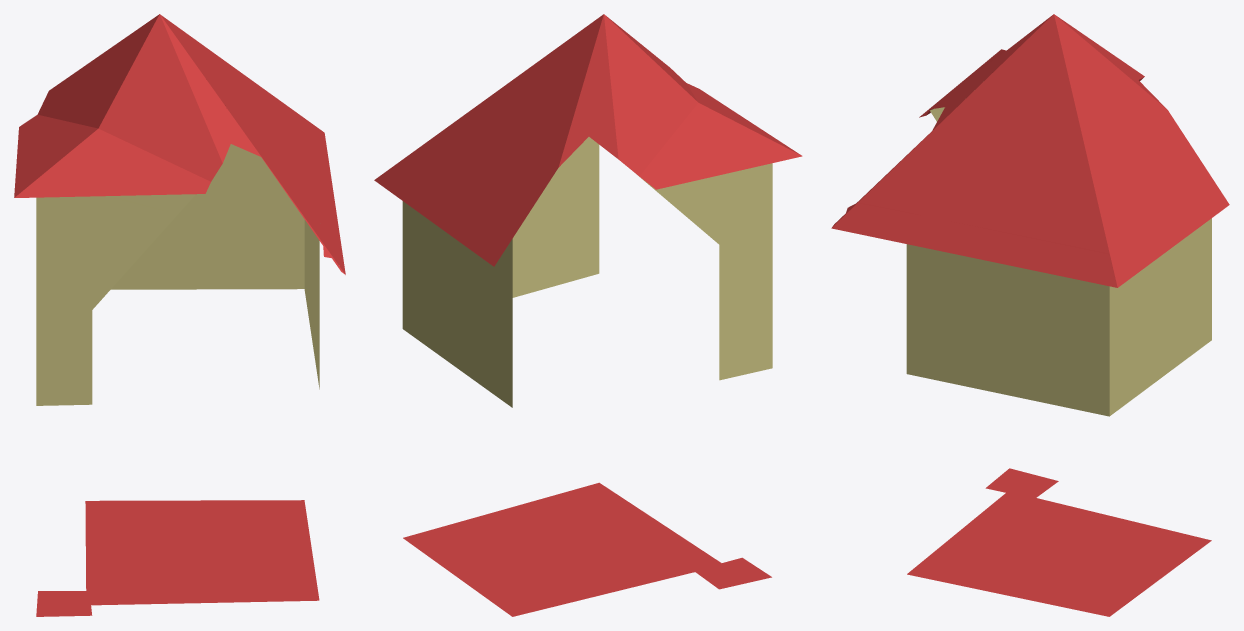
3 renders of one model, left to right at view 1: azimuth 30°, elevation 25°; view 2: azimuth 150°, elevation 25°; view 3: azimuth 270°, elevation 25°, orthographic. The views are drawn at different scales.
Parts seen in each view (by area): view 1: group_3, group_5, group_6; view 2: group_3, group_5, group_6, group_4; view 3: group_3, group_5, group_6, group_4.
Part boxes in pixels (box(x1,y1,x2,y2)): group_3: box(14, 14, 345, 274); group_5: box(36, 144, 319, 405); group_6: box(36, 500, 319, 616); group_3: box(374, 14, 802, 266); group_5: box(402, 137, 772, 407); group_6: box(403, 482, 771, 616); group_4: box(375, 79, 793, 263); group_3: box(831, 14, 1229, 287); group_5: box(906, 107, 1211, 416); group_6: box(907, 468, 1211, 616); group_4: box(834, 114, 1229, 284).
Size of the model in its own units: 15.01 by 14.68 by 21.22.
